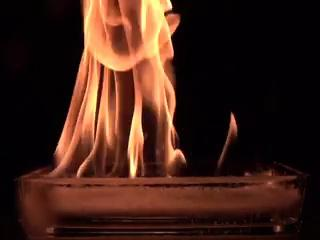Fire: (39, 1, 272, 175)
